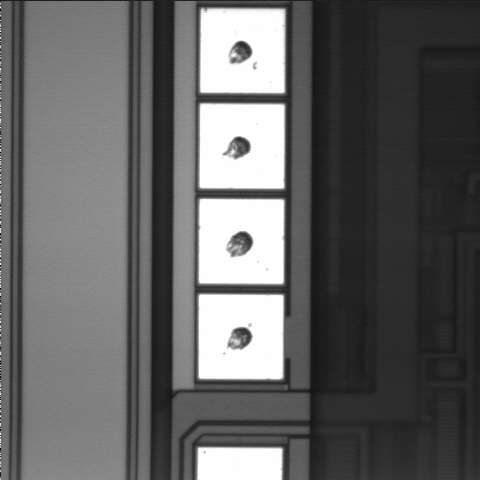pad: (199, 104, 285, 189), (199, 199, 284, 284), (200, 9, 285, 93), (199, 294, 283, 379)
